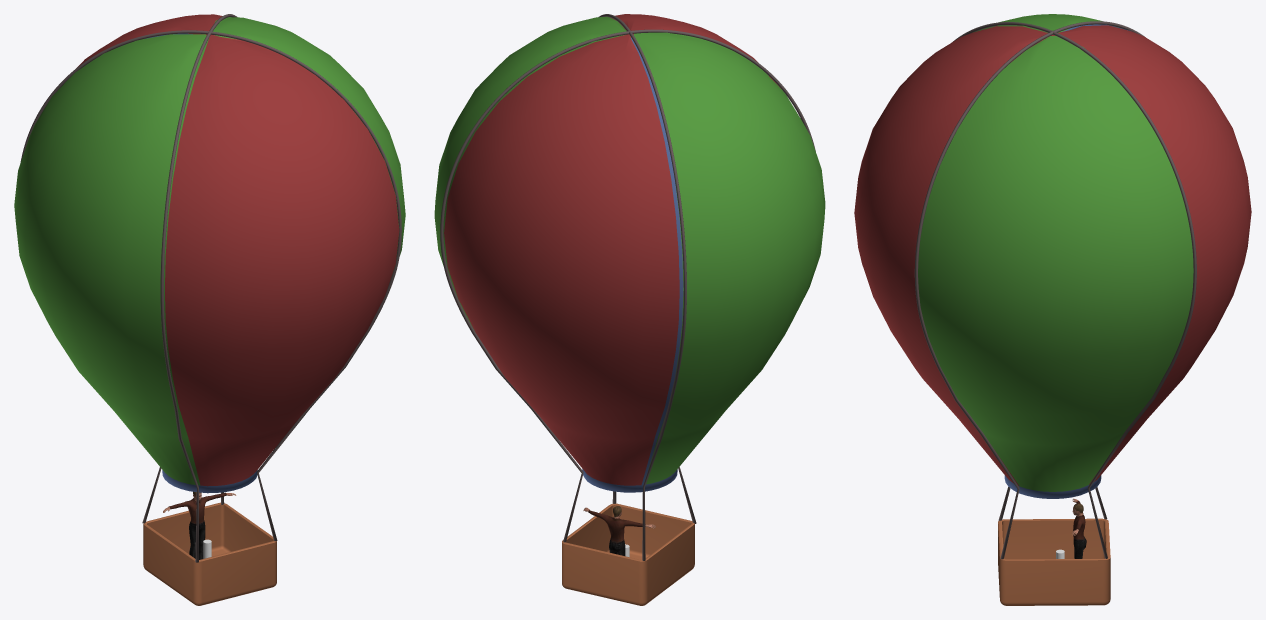
File: HAB_MockUp_01.FBX
3 renders of one model, left to right at view 1: azimuth 30°, elevation 25°; view 2: azimuth 150°, elevation 25°; view 3: azimuth 270°, elevation 25°, orthographic.
Parts seen in each view (by area): view 1: HAB_MockUp_01, Male002Skin_001; view 2: HAB_MockUp_01, Male002Skin_001; view 3: HAB_MockUp_01, Male002Skin_001.
Part boxes in pixels (x1=…): HAB_MockUp_01: x1=14, y1=14, x2=405, y2=605; Male002Skin_001: x1=163, y1=491, x2=236, y2=559; HAB_MockUp_01: x1=434, y1=14, x2=825, y2=605; Male002Skin_001: x1=583, y1=506, x2=655, y2=555; HAB_MockUp_01: x1=854, y1=14, x2=1251, y2=605; Male002Skin_001: x1=1072, y1=498, x2=1086, y2=558.
Size of the model in its own units: 27.11 by 41.82 by 27.11.
Materials: 7 (1 with a texture image).
